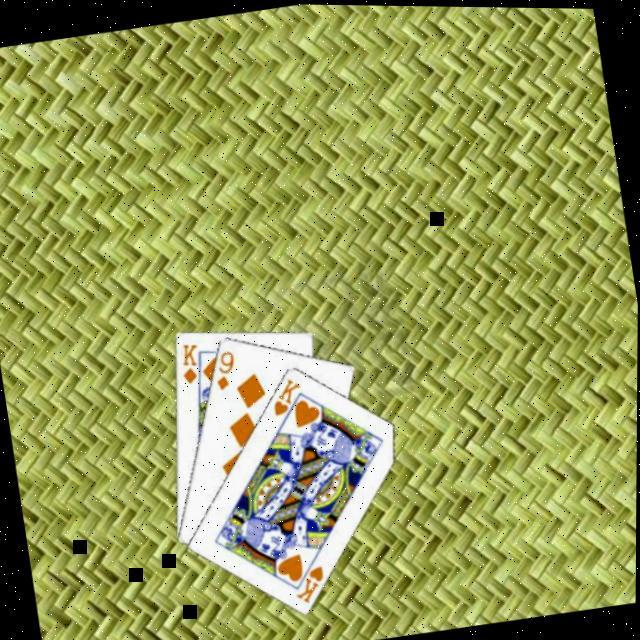9D: (208, 345, 241, 393)
KD: (175, 339, 205, 388)
KH: (266, 372, 308, 419), (288, 562, 330, 607)
